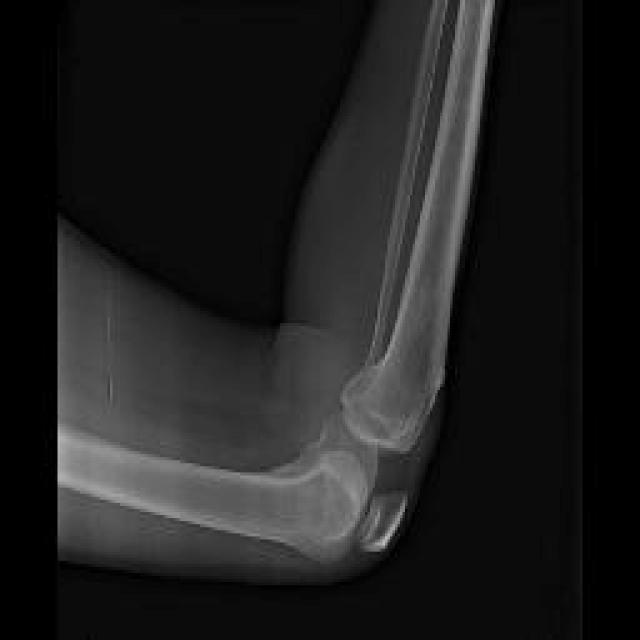normal: (337, 1, 493, 449), (57, 416, 373, 561), (363, 0, 448, 365)
